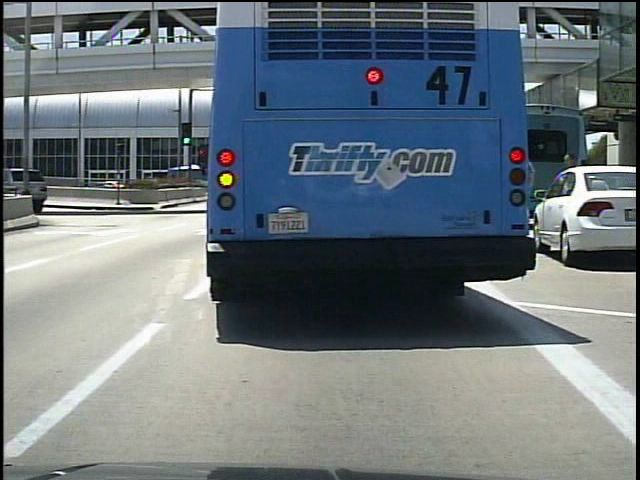person: (556, 150, 583, 259)
